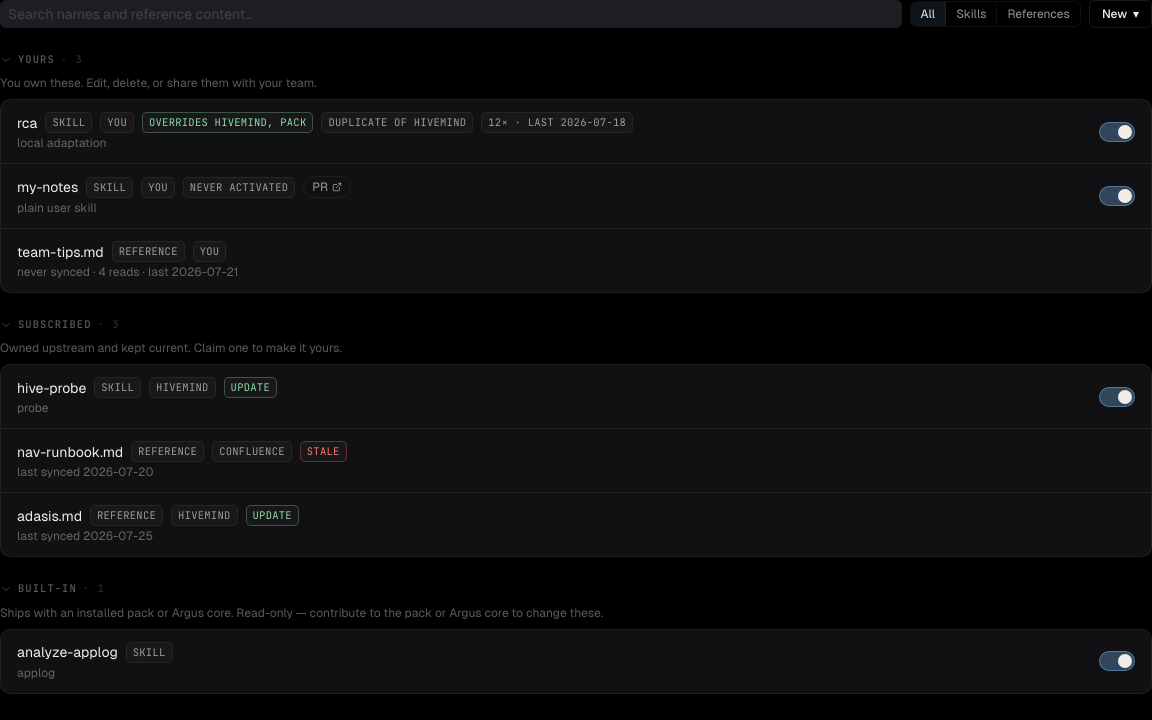
LibraryPage merged list › clicking a reference row opens the markdown viewer
This screenshot has width=1152, height=720.
Click the button with aria-label "open · team-tips.md".
click(60, 252)  # box [17,242,104,262]
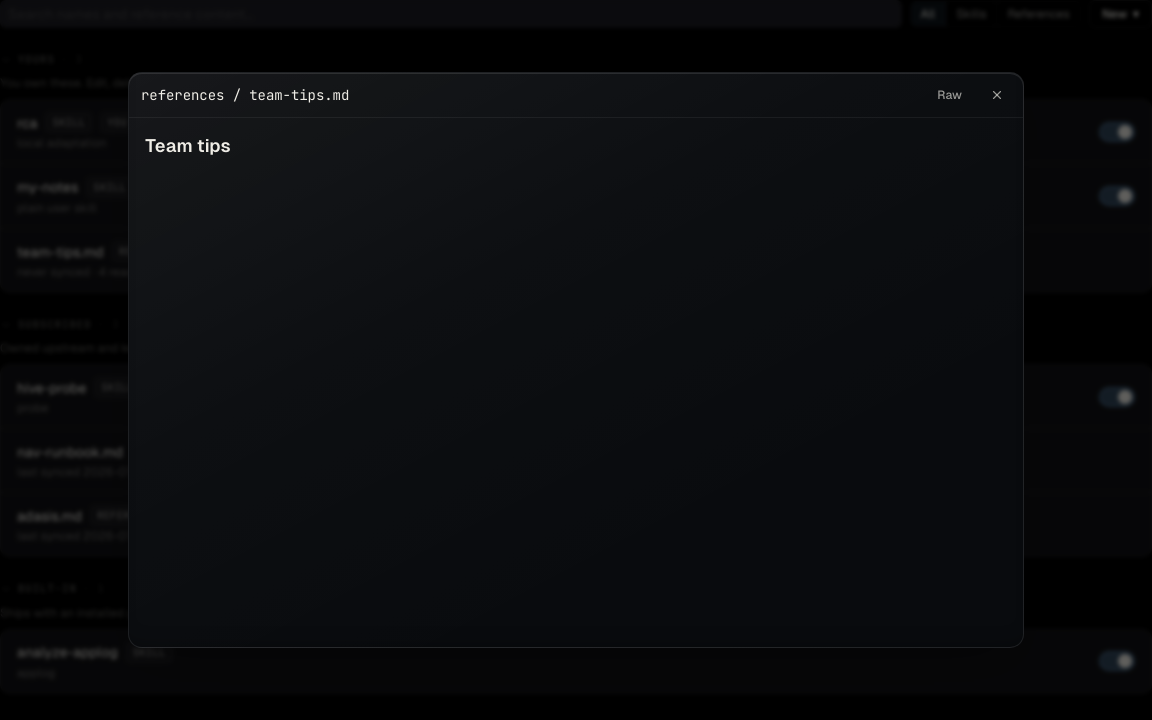
Result: the dialog "references / team-tips.md Raw Team tips" is shown
